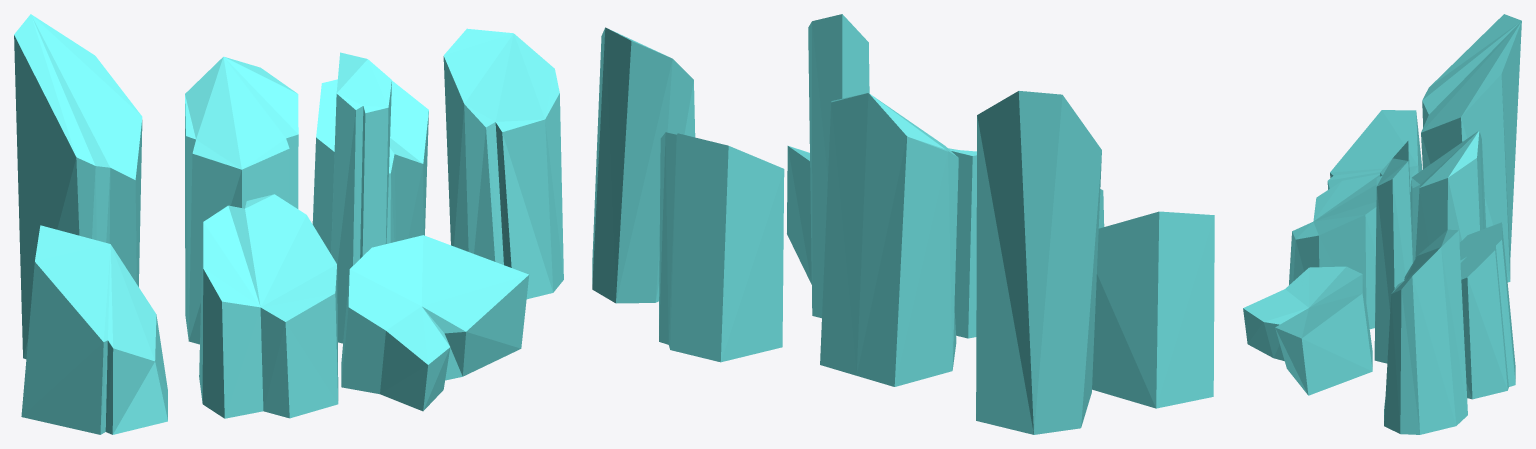
File: _crystal_1.fbx
The picture shows the model from 3 angles, left to right: view 1: azimuth 30°, elevation 25°; view 2: azimuth 150°, elevation 25°; view 3: azimuth 270°, elevation 25°; orthographic projection. The views are drawn at different scales.
Parts seen in each view (by area): view 1: crystal_1; view 2: crystal_1; view 3: crystal_1.
Boxes of the visible parts, bbox=[...] form: crystal_1: bbox=[14, 14, 563, 434]; crystal_1: bbox=[592, 14, 1214, 434]; crystal_1: bbox=[1243, 14, 1521, 434].
Size of the model in its own units: 119 by 65.59 by 67.99.
